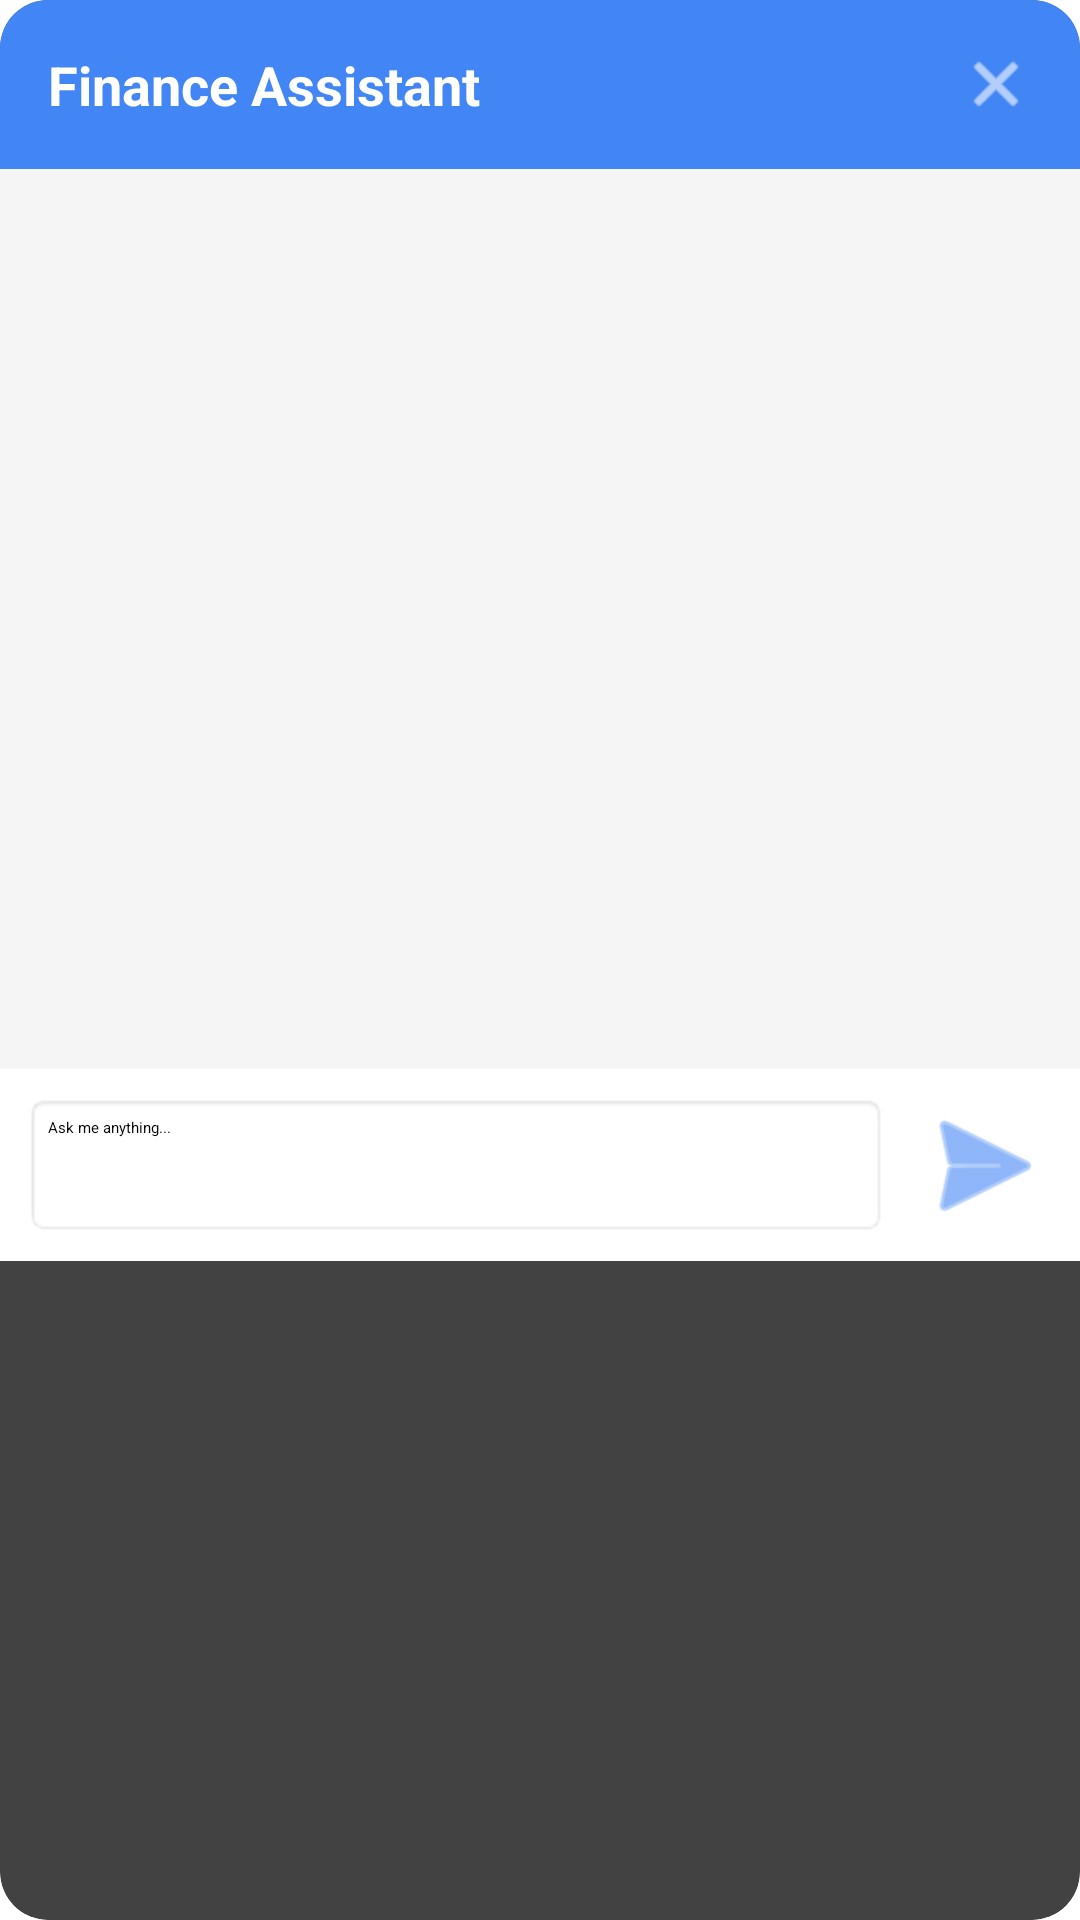

Locate icon controls on the screen. Image size 1080px×1920px, boxes as (x1, y1, x2, y2).
close clear cancel: (974, 62, 1018, 106)
send: (939, 1120, 1031, 1211)
